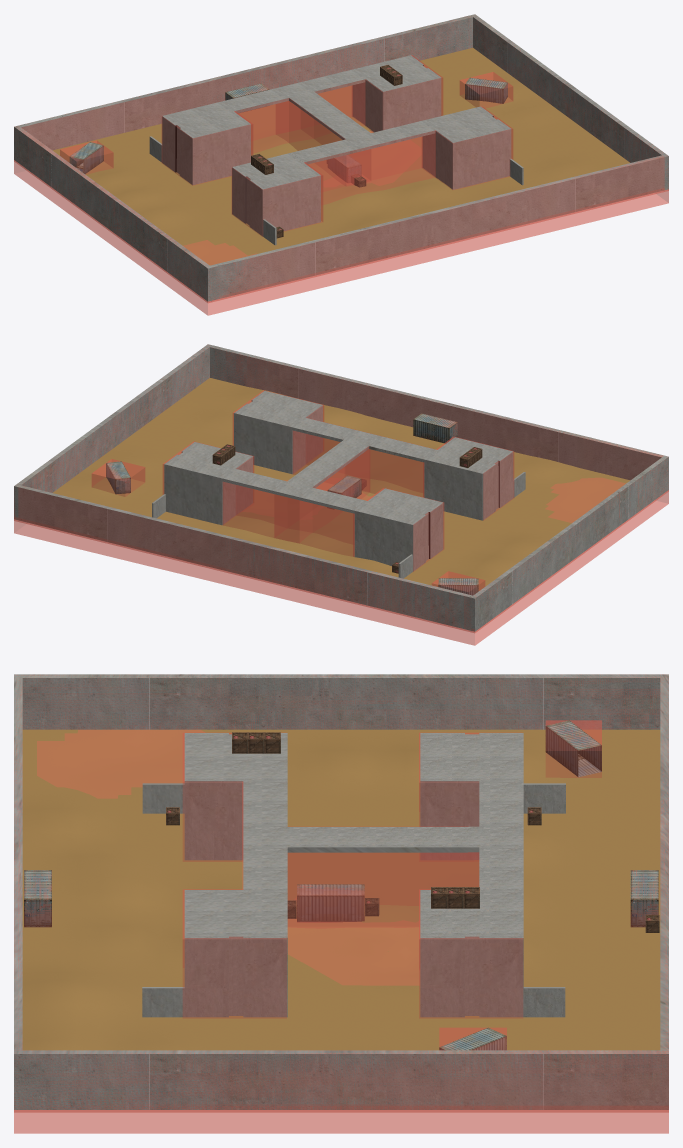
Rendered from desert-arena.glb.
3 renders of one model, top to bottom at view 1: azimuth 30°, elevation 25°; view 2: azimuth 150°, elevation 25°; view 3: azimuth 270°, elevation 25°, orthographic. The views are drawn at different scales.
Parts seen in each view (by area): view 1: Wall_Perimeter, Ground_Sand, Cover_Structure, COL_Wall_South, COL_Ground, COL_Wall_North, COL_Cover_03, COL_Cover_01, COL_Cover_05, COL_Cover_02, COL_Cover_07, COL_Cover_06 (+8 smaller); view 2: Wall_Perimeter, Ground_Sand, Cover_Structure, COL_Wall_North, COL_Wall_South, COL_Ground, COL_Cover_07, COL_Cover_03, COL_Cover_04, COL_Wall_East, COL_Cover_05, COL_Cover_01 (+9 smaller); view 3: Ground_Sand, Wall_Perimeter, Cover_Structure, COL_Wall_East, COL_Ground, COL_Cover_04, COL_Wall_West, COL_Cover_02, COL_Cover_06, COL_Cover_01, COL_Cover_05, COL_Container_05 (+9 smaller).
Part boxes in pixels (x1=…): Wall_Perimeter: x1=14, y1=14, x2=668, y2=301; Ground_Sand: x1=53, y1=48, x2=629, y2=265; Cover_Structure: x1=149, y1=55, x2=523, y2=245; COL_Wall_South: x1=211, y1=155, x2=664, y2=301; COL_Ground: x1=14, y1=131, x2=668, y2=315; COL_Wall_North: x1=21, y1=18, x2=472, y2=149; COL_Cover_03: x1=304, y1=130, x2=435, y2=204; COL_Cover_01: x1=231, y1=162, x2=323, y2=236; COL_Cover_05: x1=161, y1=111, x2=253, y2=185; COL_Cover_02: x1=422, y1=106, x2=513, y2=189; COL_Cover_07: x1=235, y1=79, x2=365, y2=153; COL_Cover_06: x1=352, y1=55, x2=443, y2=132; Wall_Perimeter: x1=14, y1=344, x2=668, y2=631; Ground_Sand: x1=53, y1=378, x2=629, y2=590; Cover_Structure: x1=152, y1=391, x2=525, y2=578; COL_Wall_North: x1=18, y1=487, x2=471, y2=632; COL_Wall_South: x1=210, y1=347, x2=663, y2=479; COL_Ground: x1=14, y1=478, x2=668, y2=645; COL_Cover_07: x1=223, y1=482, x2=354, y2=556; COL_Cover_03: x1=293, y1=418, x2=426, y2=496; COL_Cover_04: x1=274, y1=446, x2=369, y2=542; COL_Wall_East: x1=14, y1=348, x2=209, y2=521; COL_Cover_05: x1=353, y1=488, x2=444, y2=571; COL_Cover_01: x1=423, y1=436, x2=514, y2=520; Ground_Sand: x1=22, y1=729, x2=660, y2=1050; Wall_Perimeter: x1=14, y1=674, x2=668, y2=1109; Cover_Structure: x1=142, y1=733, x2=565, y2=1017; COL_Wall_East: x1=14, y1=1050, x2=668, y2=1112; COL_Ground: x1=14, y1=730, x2=668, y2=1133; COL_Cover_04: x1=287, y1=826, x2=479, y2=928; COL_Wall_West: x1=15, y1=674, x2=664, y2=729; COL_Cover_02: x1=182, y1=889, x2=286, y2=1018; COL_Cover_06: x1=419, y1=889, x2=522, y2=1018; COL_Cover_01: x1=182, y1=732, x2=286, y2=861; COL_Cover_05: x1=419, y1=732, x2=522, y2=826; COL_Container_05: x1=545, y1=720, x2=601, y2=777.
Size of the model in its own units: 29.11 by 4.37 by 21.21.
7 materials, 4 textured.
